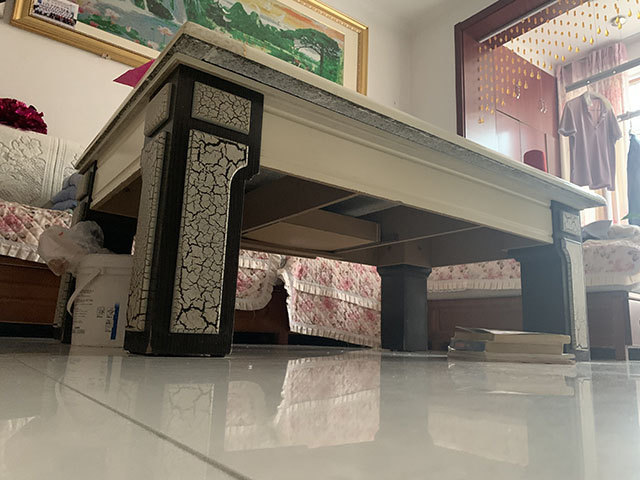book: (444, 325, 577, 367)
sofa: (1, 123, 640, 363)
table: (48, 19, 608, 365)
